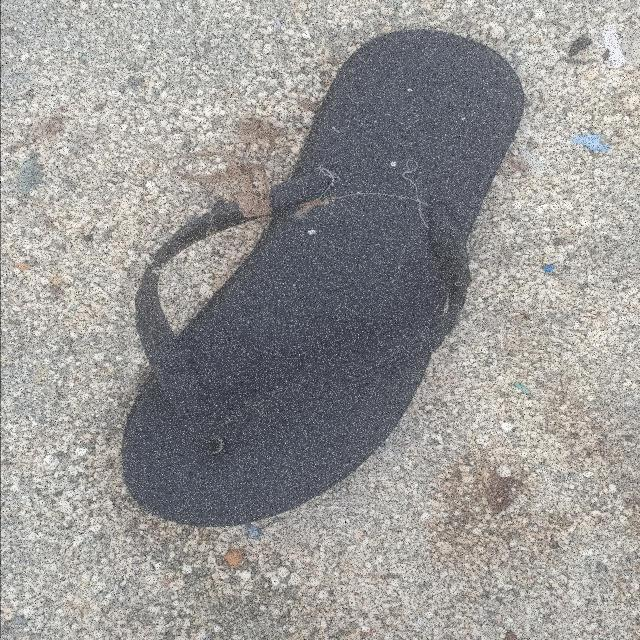rubber_waste: (122, 31, 526, 528)
